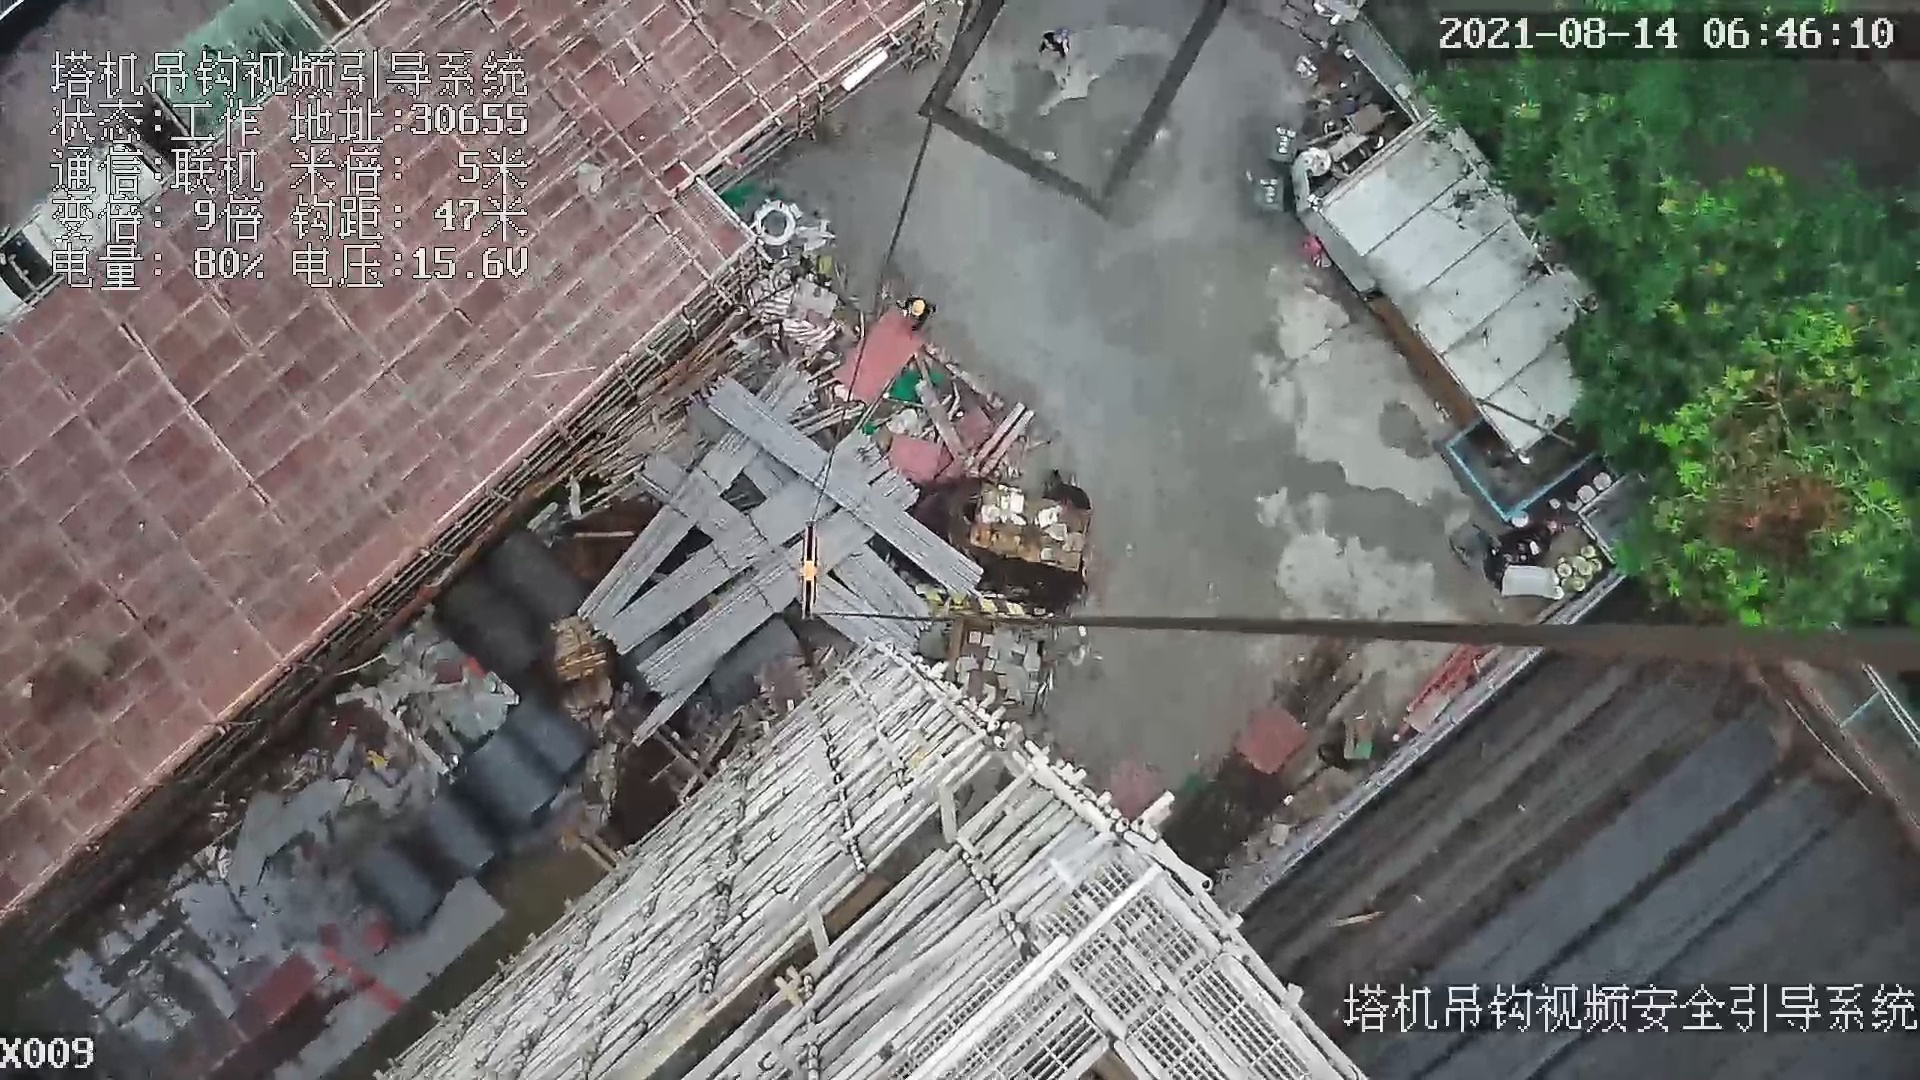helmet: (911, 298, 926, 314)
hook: (792, 523, 829, 626)
hopper: (1440, 409, 1596, 523)
person: (1035, 26, 1086, 62), (899, 289, 936, 335)
